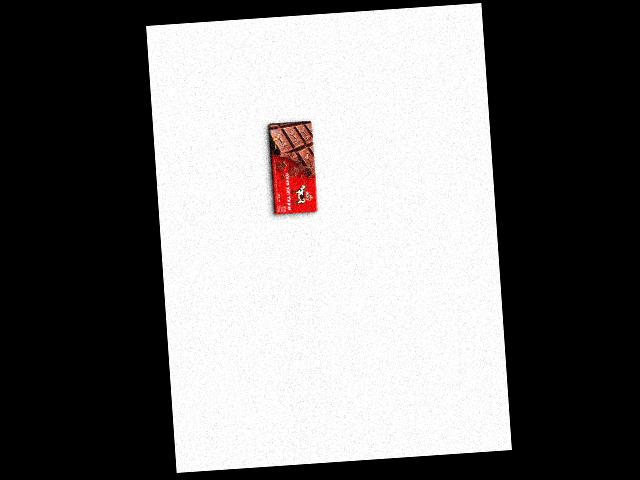chocolate: (264, 118, 320, 217)
